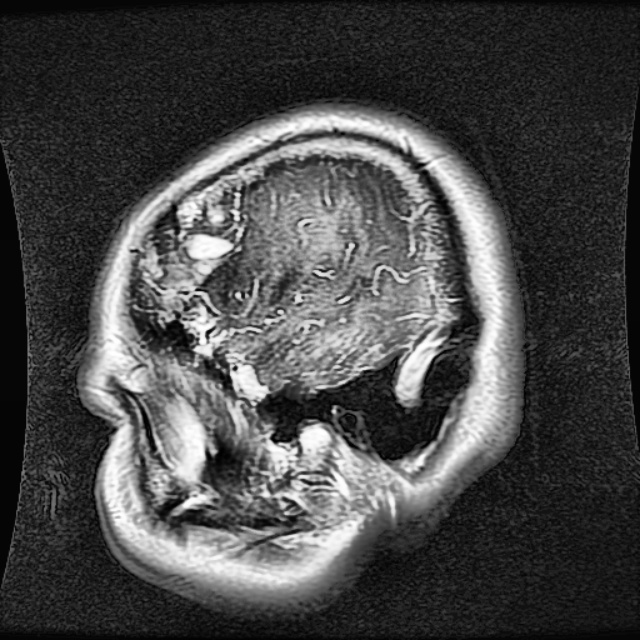Meningioma: (157, 229, 232, 315)
